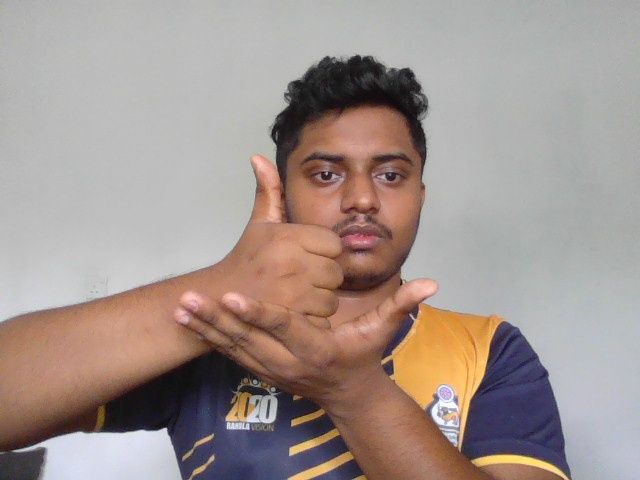Help: (170, 149, 440, 401)
